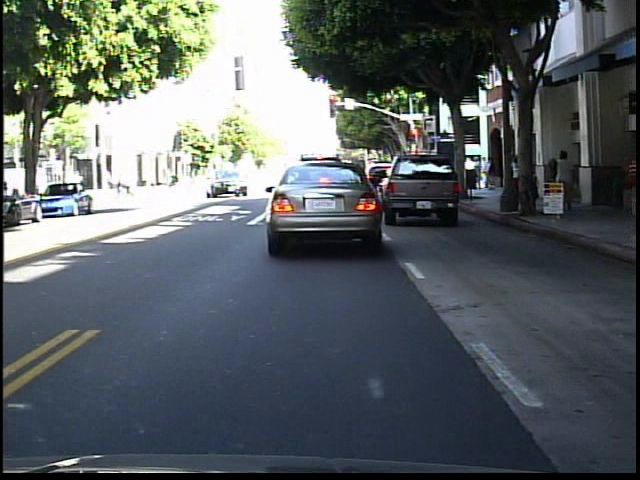person: (553, 148, 578, 209), (507, 150, 524, 212), (563, 151, 578, 205)
